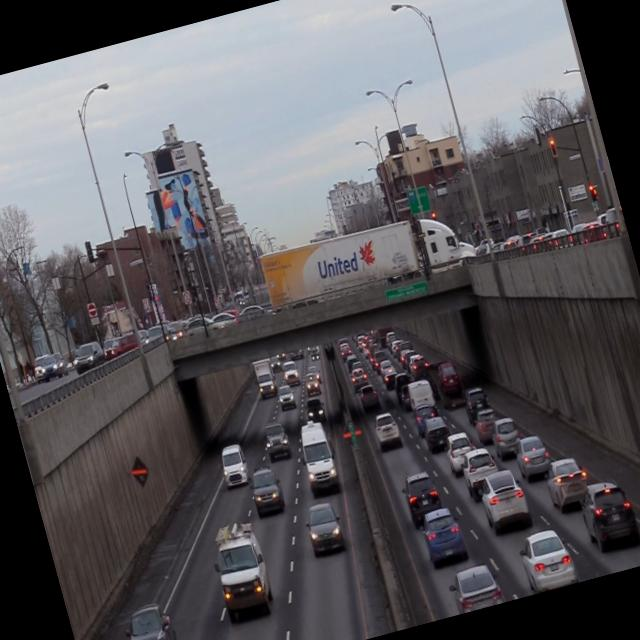Vehicle: (208, 516, 278, 619), (573, 477, 640, 555), (513, 524, 578, 595), (475, 466, 533, 534), (112, 590, 188, 640), (296, 416, 343, 494), (417, 506, 469, 570), (448, 561, 507, 614), (300, 496, 348, 560), (541, 451, 592, 511), (397, 471, 446, 522), (511, 431, 554, 484), (250, 464, 288, 516), (216, 440, 253, 490), (460, 449, 501, 493), (258, 418, 294, 464), (488, 414, 524, 460), (443, 429, 479, 474), (371, 407, 405, 453), (424, 414, 454, 452), (473, 409, 503, 444), (462, 385, 492, 418)
